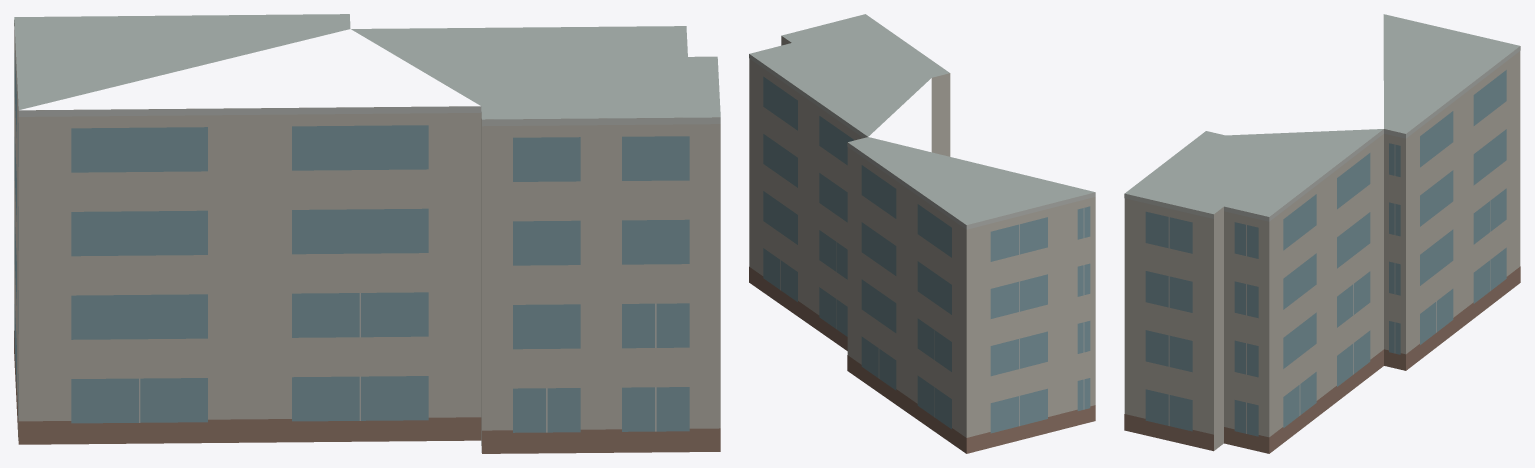
Rendered from residential-a884c71e-94e5-41d3-a7ca-934131f17b28.glb.
3 renders of one model, left to right at view 1: azimuth 30°, elevation 25°; view 2: azimuth 150°, elevation 25°; view 3: azimuth 270°, elevation 25°, orthographic. The views are drawn at different scales.
Visible parts, largest first — view 1: residential-a884c71e-94e5-41d3-a7ca-934131f17b28.tmp; view 2: residential-a884c71e-94e5-41d3-a7ca-934131f17b28.tmp; view 3: residential-a884c71e-94e5-41d3-a7ca-934131f17b28.tmp.
Part boxes in pixels (x1=…): residential-a884c71e-94e5-41d3-a7ca-934131f17b28.tmp: x1=14, y1=14, x2=720, y2=453; residential-a884c71e-94e5-41d3-a7ca-934131f17b28.tmp: x1=749, y1=14, x2=1095, y2=453; residential-a884c71e-94e5-41d3-a7ca-934131f17b28.tmp: x1=1124, y1=14, x2=1520, y2=453.
Bounding box in the file's own units: 22.43 × 12.2 × 18.49.
